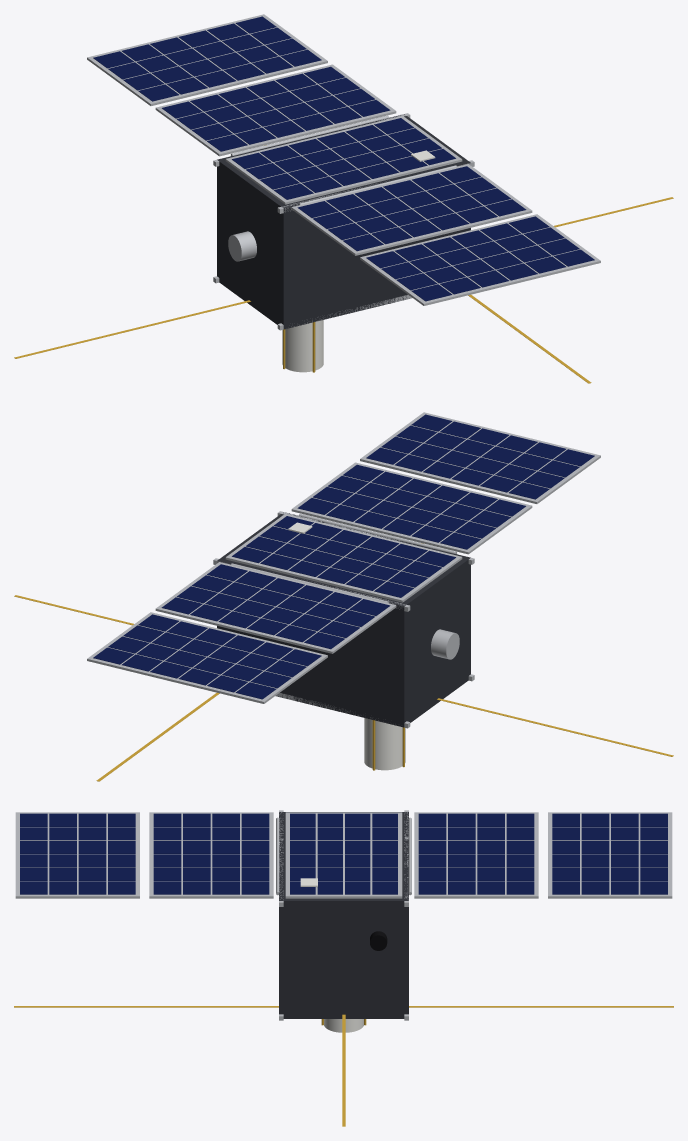
File: sat-iot-12u.glb
3 views of the same model, one above another, from view 1: azimuth 30°, elevation 25°; view 2: azimuth 150°, elevation 25°; view 3: azimuth 270°, elevation 25° (orthographic). The views are drawn at different scales.
Visible parts, largest first — view 1: bus, wing_n1_substrate, wing_p1_substrate, wing_n2_substrate, wing_p2_substrate, body_panel_substrate, isoflux_radome, thruster, ais_1; view 2: bus, wing_n1_substrate, wing_p1_substrate, wing_p2_substrate, wing_n2_substrate, body_panel_substrate, isoflux_radome, thruster, ais_1; view 3: bus, wing_n1_substrate, wing_n2_substrate, wing_p1_substrate, wing_p2_substrate, body_panel_substrate, ais_2, ais_3.
Boxes of the visible parts, x1,y1,x2,y2 form: bus: (217, 114, 470, 329); wing_n1_substrate: (291, 164, 532, 255); wing_p1_substrate: (155, 64, 396, 156); wing_n2_substrate: (360, 214, 600, 305); wing_p2_substrate: (87, 14, 327, 105); body_panel_substrate: (225, 115, 462, 204); isoflux_radome: (282, 320, 323, 372); thruster: (228, 231, 256, 261); ais_1: (14, 300, 250, 358); bus: (217, 512, 470, 727); wing_n1_substrate: (291, 462, 532, 554); wing_p1_substrate: (155, 562, 396, 653); wing_p2_substrate: (87, 612, 327, 703); wing_n2_substrate: (360, 412, 600, 503); body_panel_substrate: (225, 513, 462, 602); isoflux_radome: (364, 718, 405, 770); thruster: (431, 629, 459, 659); ais_1: (437, 698, 673, 756); bus: (279, 812, 408, 1018); wing_n1_substrate: (149, 812, 273, 898); wing_n2_substrate: (15, 812, 139, 898); wing_p1_substrate: (414, 812, 538, 898); wing_p2_substrate: (548, 812, 672, 898); body_panel_substrate: (285, 812, 402, 898); ais_2: (409, 1006, 673, 1007); ais_3: (14, 1006, 278, 1007).
Size of the model in its own units: 1286 by 367 by 1146.
